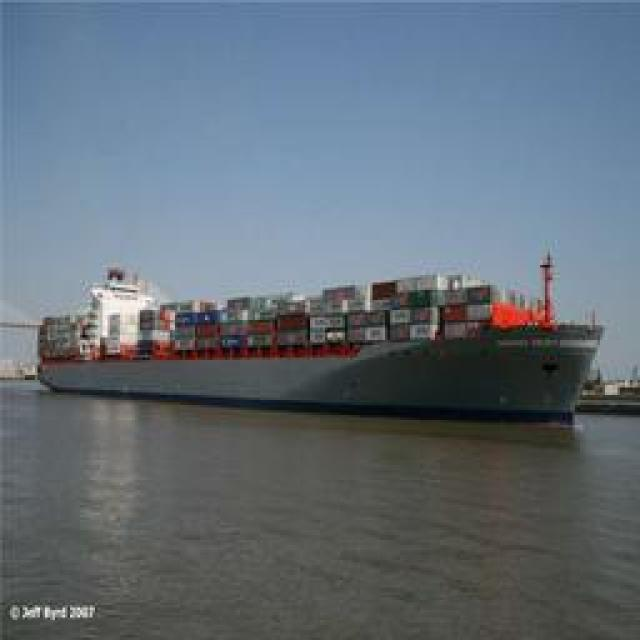CIV_Ship: (40, 237, 598, 415)
